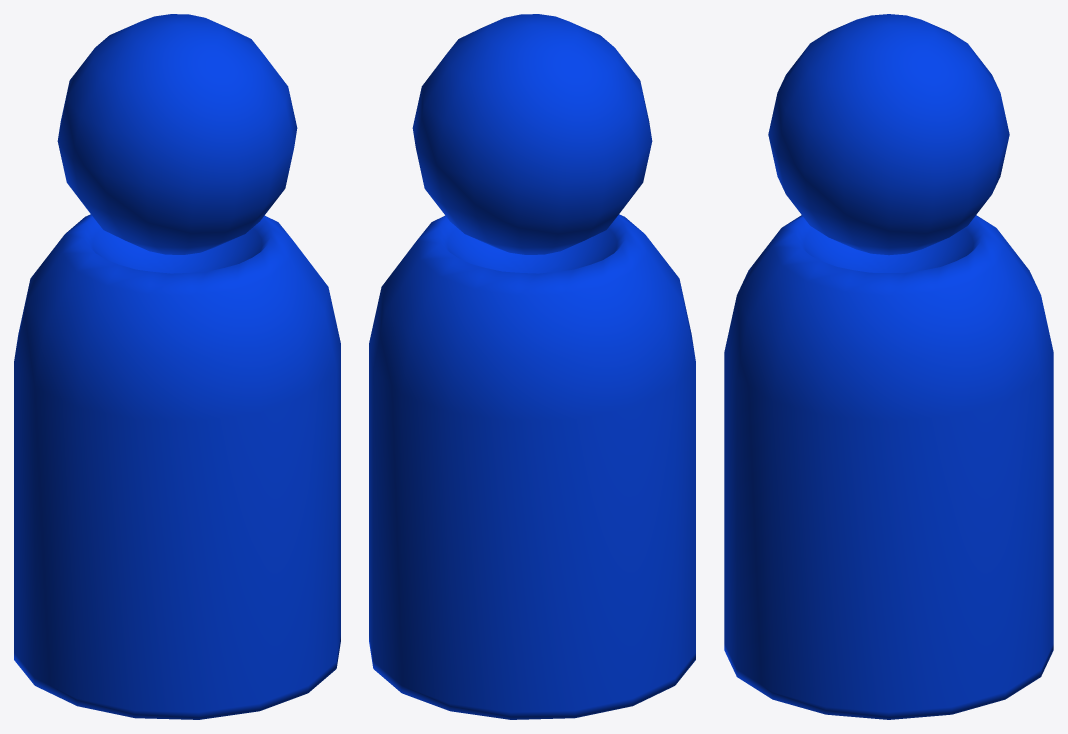
File: SellerCharacter.glb
The picture shows the model from 3 angles, left to right: view 1: azimuth 30°, elevation 25°; view 2: azimuth 150°, elevation 25°; view 3: azimuth 270°, elevation 25°; orthographic projection.
Parts seen in each view (by area): view 1: Body, Head; view 2: Body, Head; view 3: Body, Head.
Boxes of the visible parts, left/top/right/bottom form: Body: left=14, top=214, right=340, bottom=719; Head: left=57, top=14, right=297, bottom=254; Body: left=369, top=214, right=695, bottom=719; Head: left=412, top=14, right=652, bottom=254; Body: left=724, top=215, right=1053, bottom=719; Head: left=768, top=14, right=1009, bottom=255.
Bounding box in the file's own units: 0.3 × 0.6286 × 0.3.
